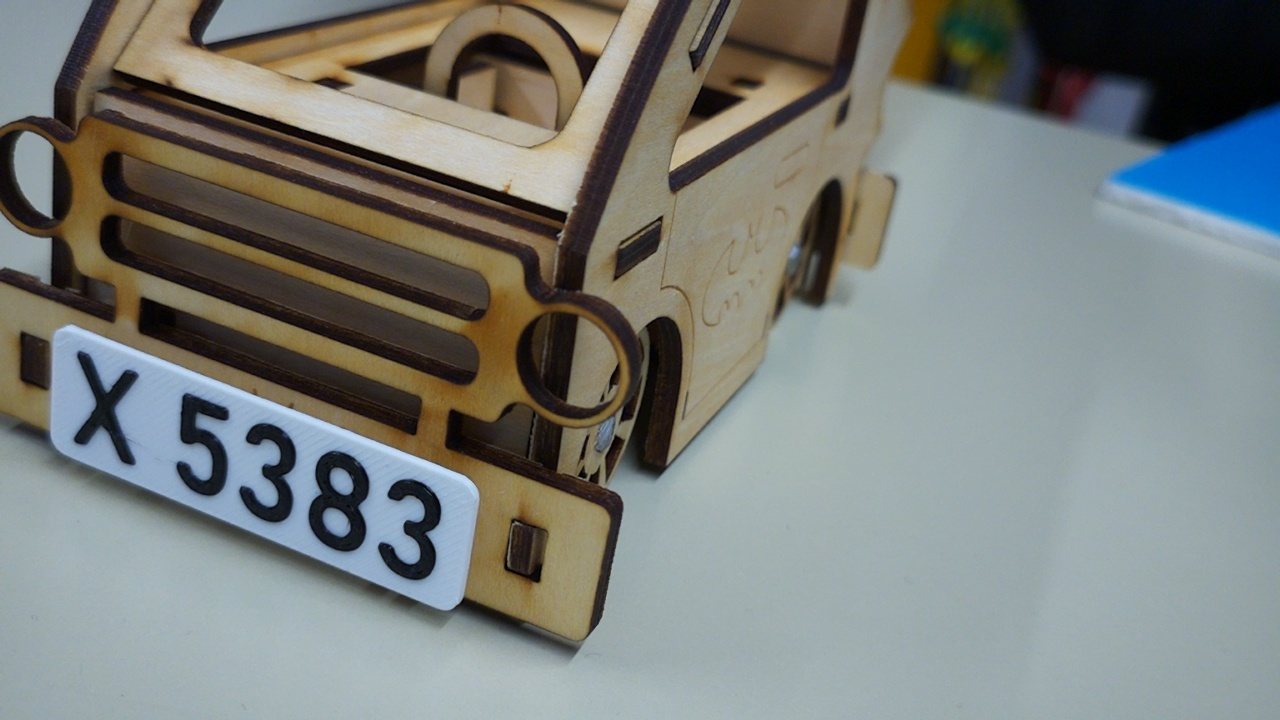license_plate: (47, 320, 481, 613)
